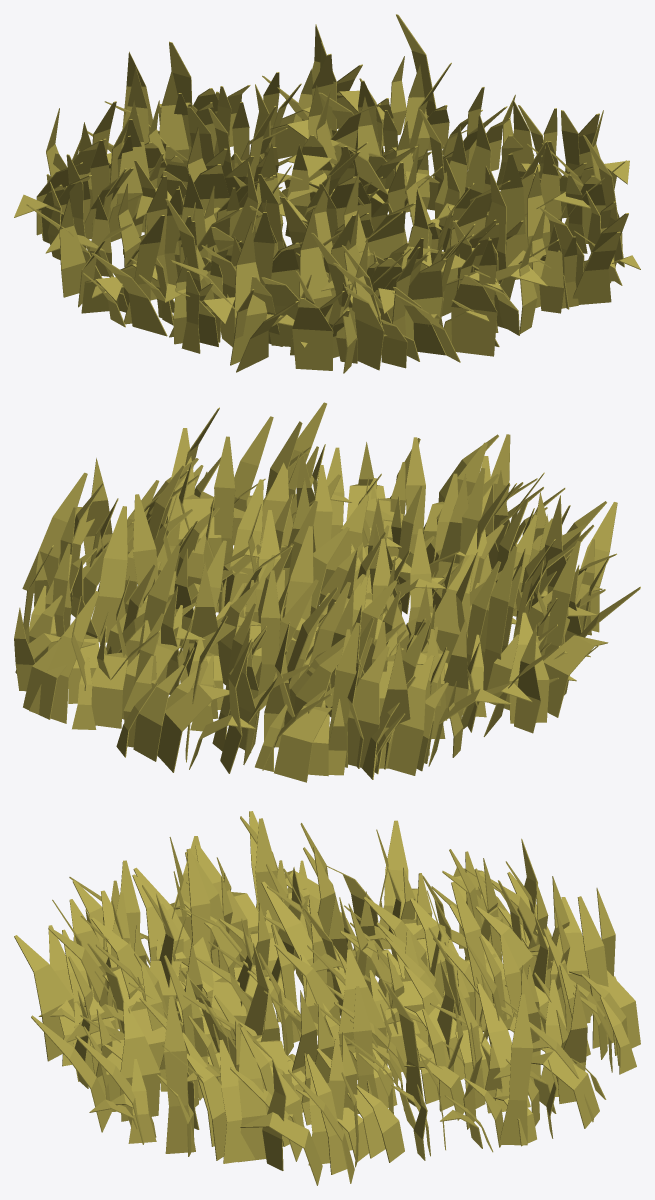
File: GrassBigCircle.fbx
3 renders of one model, top to bottom at view 1: azimuth 30°, elevation 25°; view 2: azimuth 150°, elevation 25°; view 3: azimuth 270°, elevation 25°, orthographic. The views are drawn at different scales.
Visible parts, largest first — view 1: Grass4.016; view 2: Grass4.016; view 3: Grass4.016.
Boxes of the visible parts, x1,y1,x2,y2 form: Grass4.016: (14, 14, 640, 373); Grass4.016: (14, 402, 640, 782); Grass4.016: (14, 811, 640, 1185).
Bounding box in the file's own units: 673 × 168 × 654.
